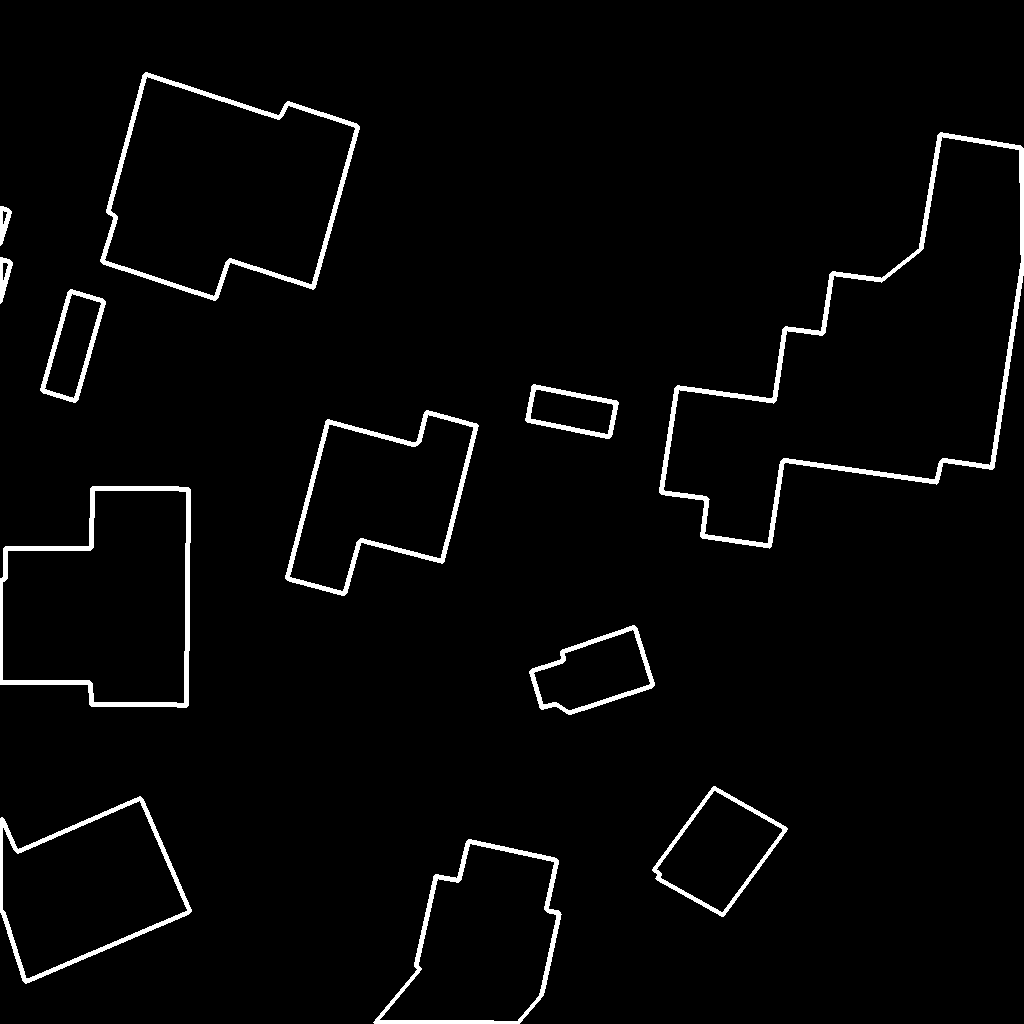building: (661, 134, 1024, 547), (102, 74, 359, 300), (0, 488, 190, 706), (0, 798, 191, 983), (287, 412, 478, 595), (375, 841, 560, 1024), (654, 788, 787, 916), (531, 627, 654, 714), (42, 291, 105, 402), (527, 386, 618, 438), (0, 208, 12, 304)
